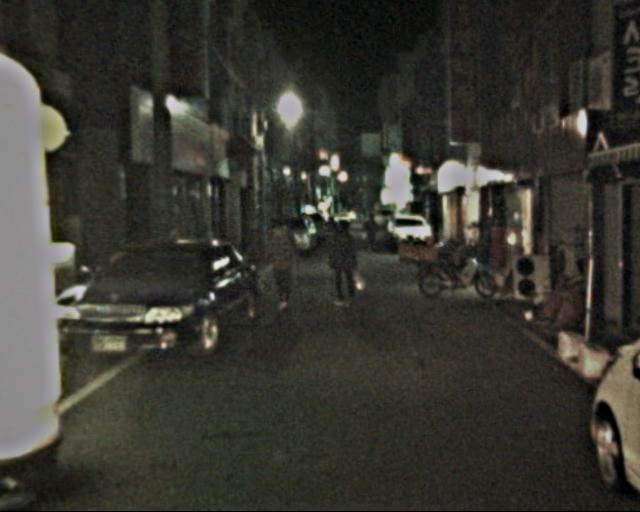person: (322, 216, 365, 311), (264, 218, 303, 312), (363, 212, 379, 252)
